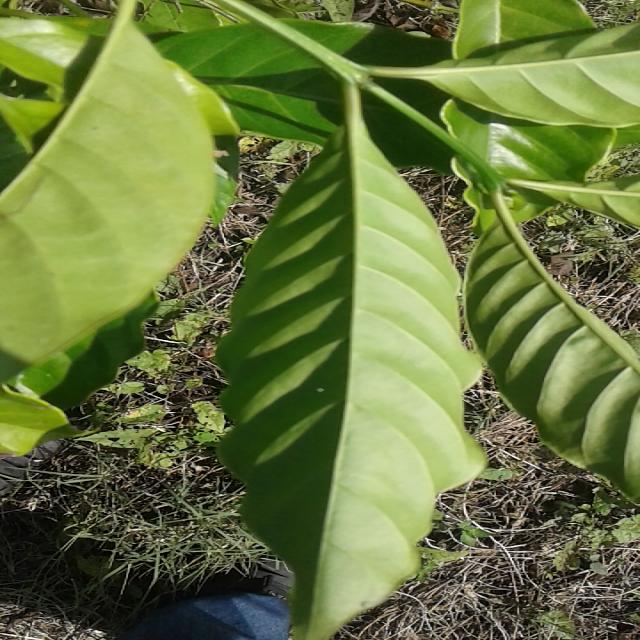Sanas: (216, 90, 487, 640)
